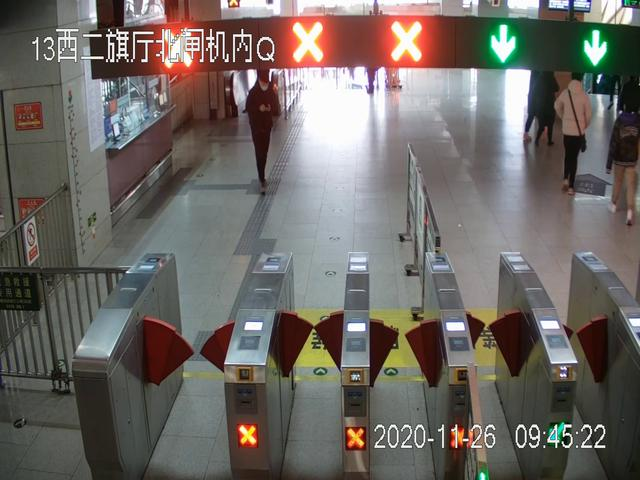person: (552, 70, 593, 197), (247, 72, 282, 196), (605, 103, 640, 226)
